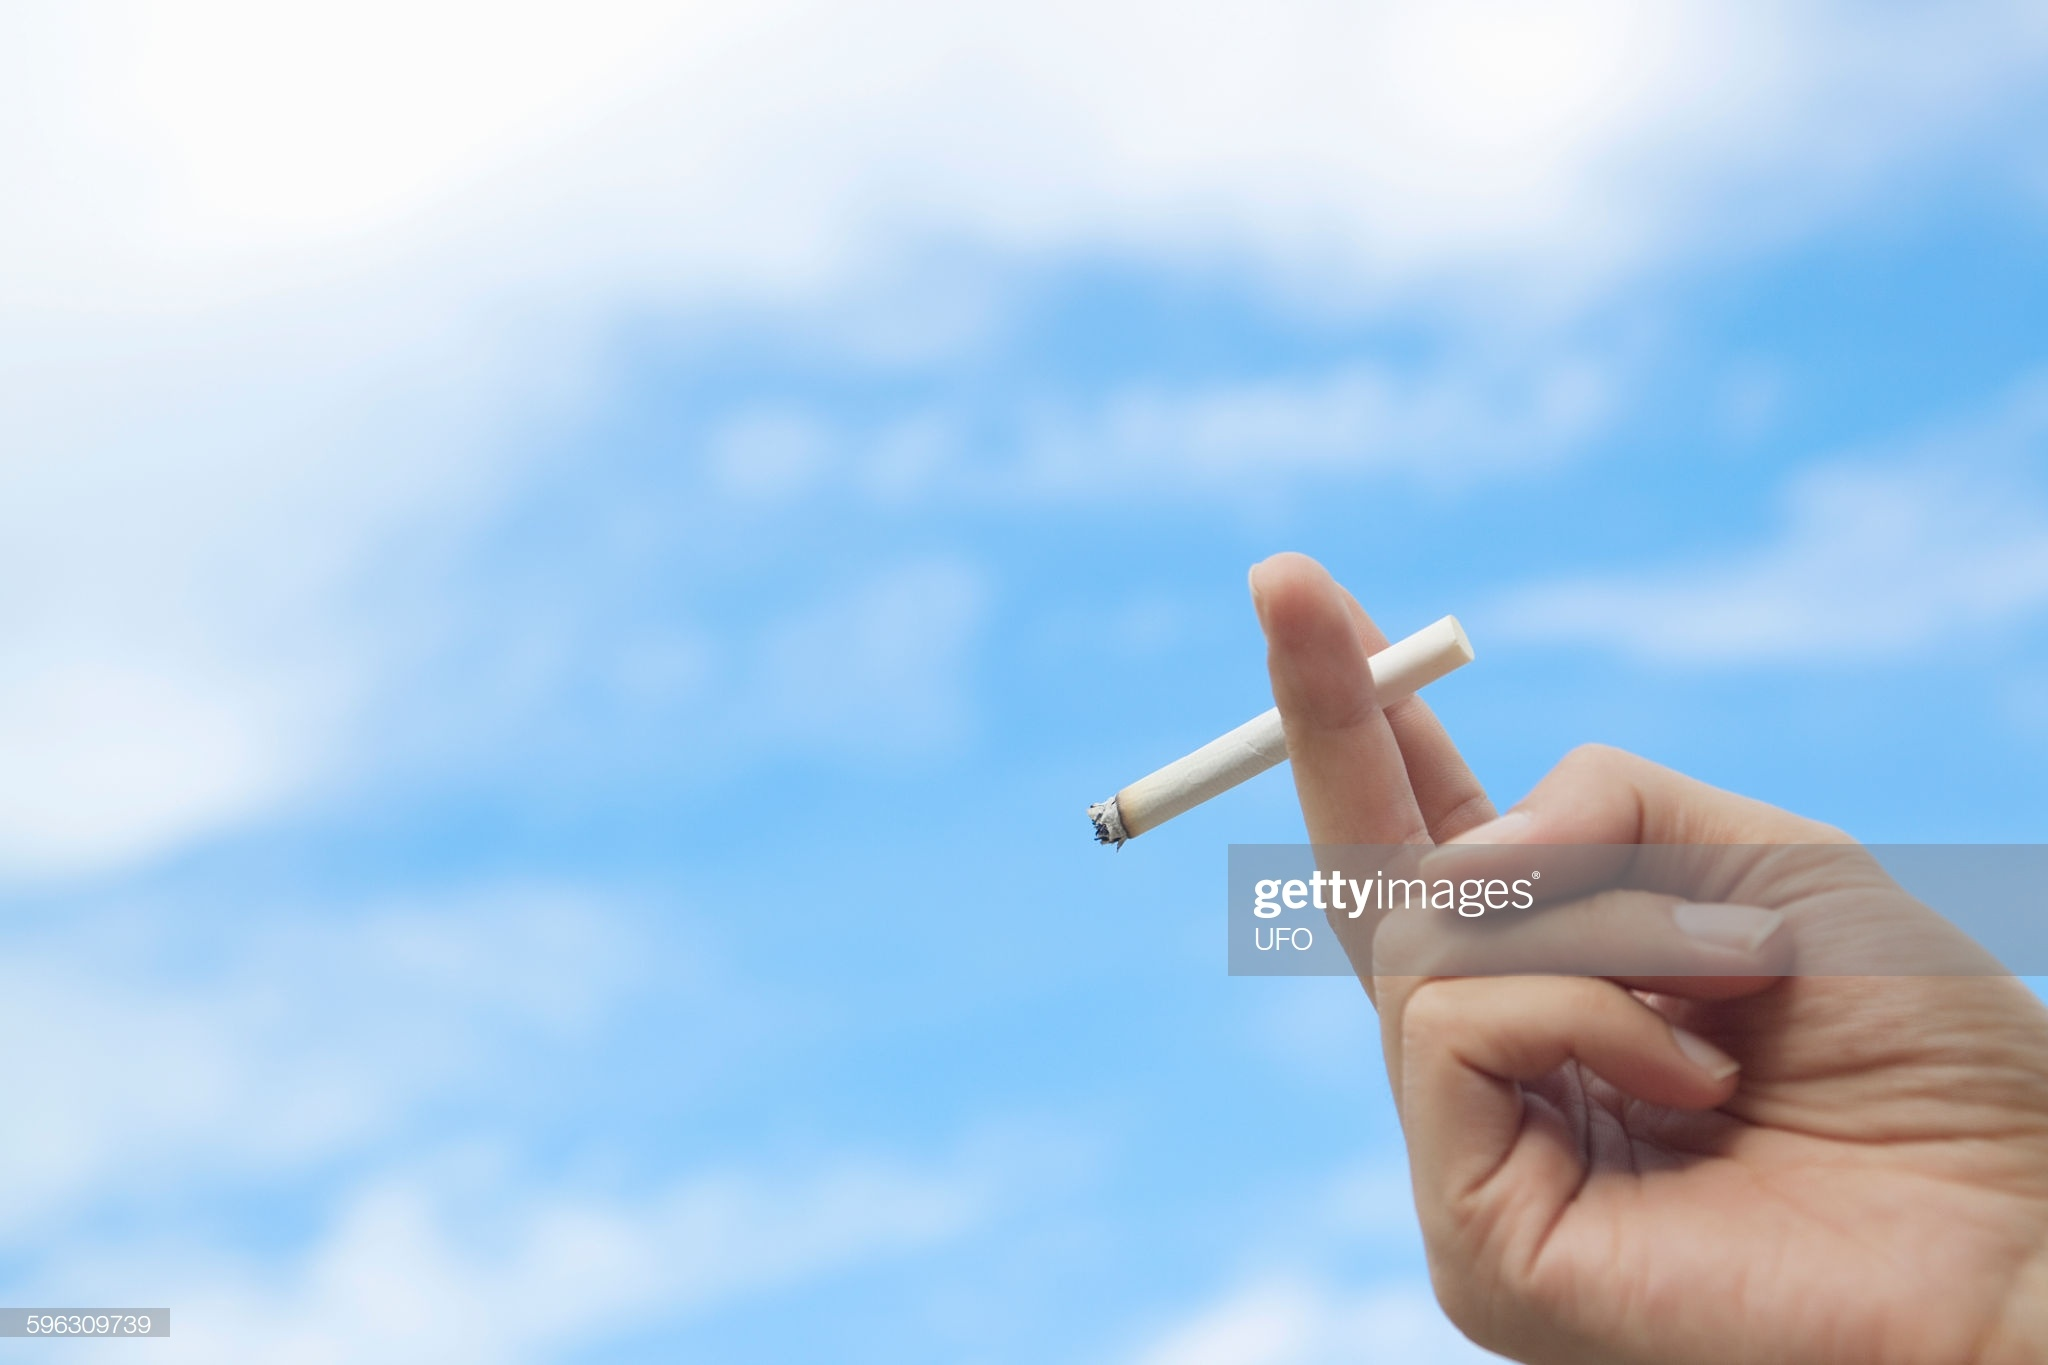sigaretta: (1083, 631, 1471, 852)
